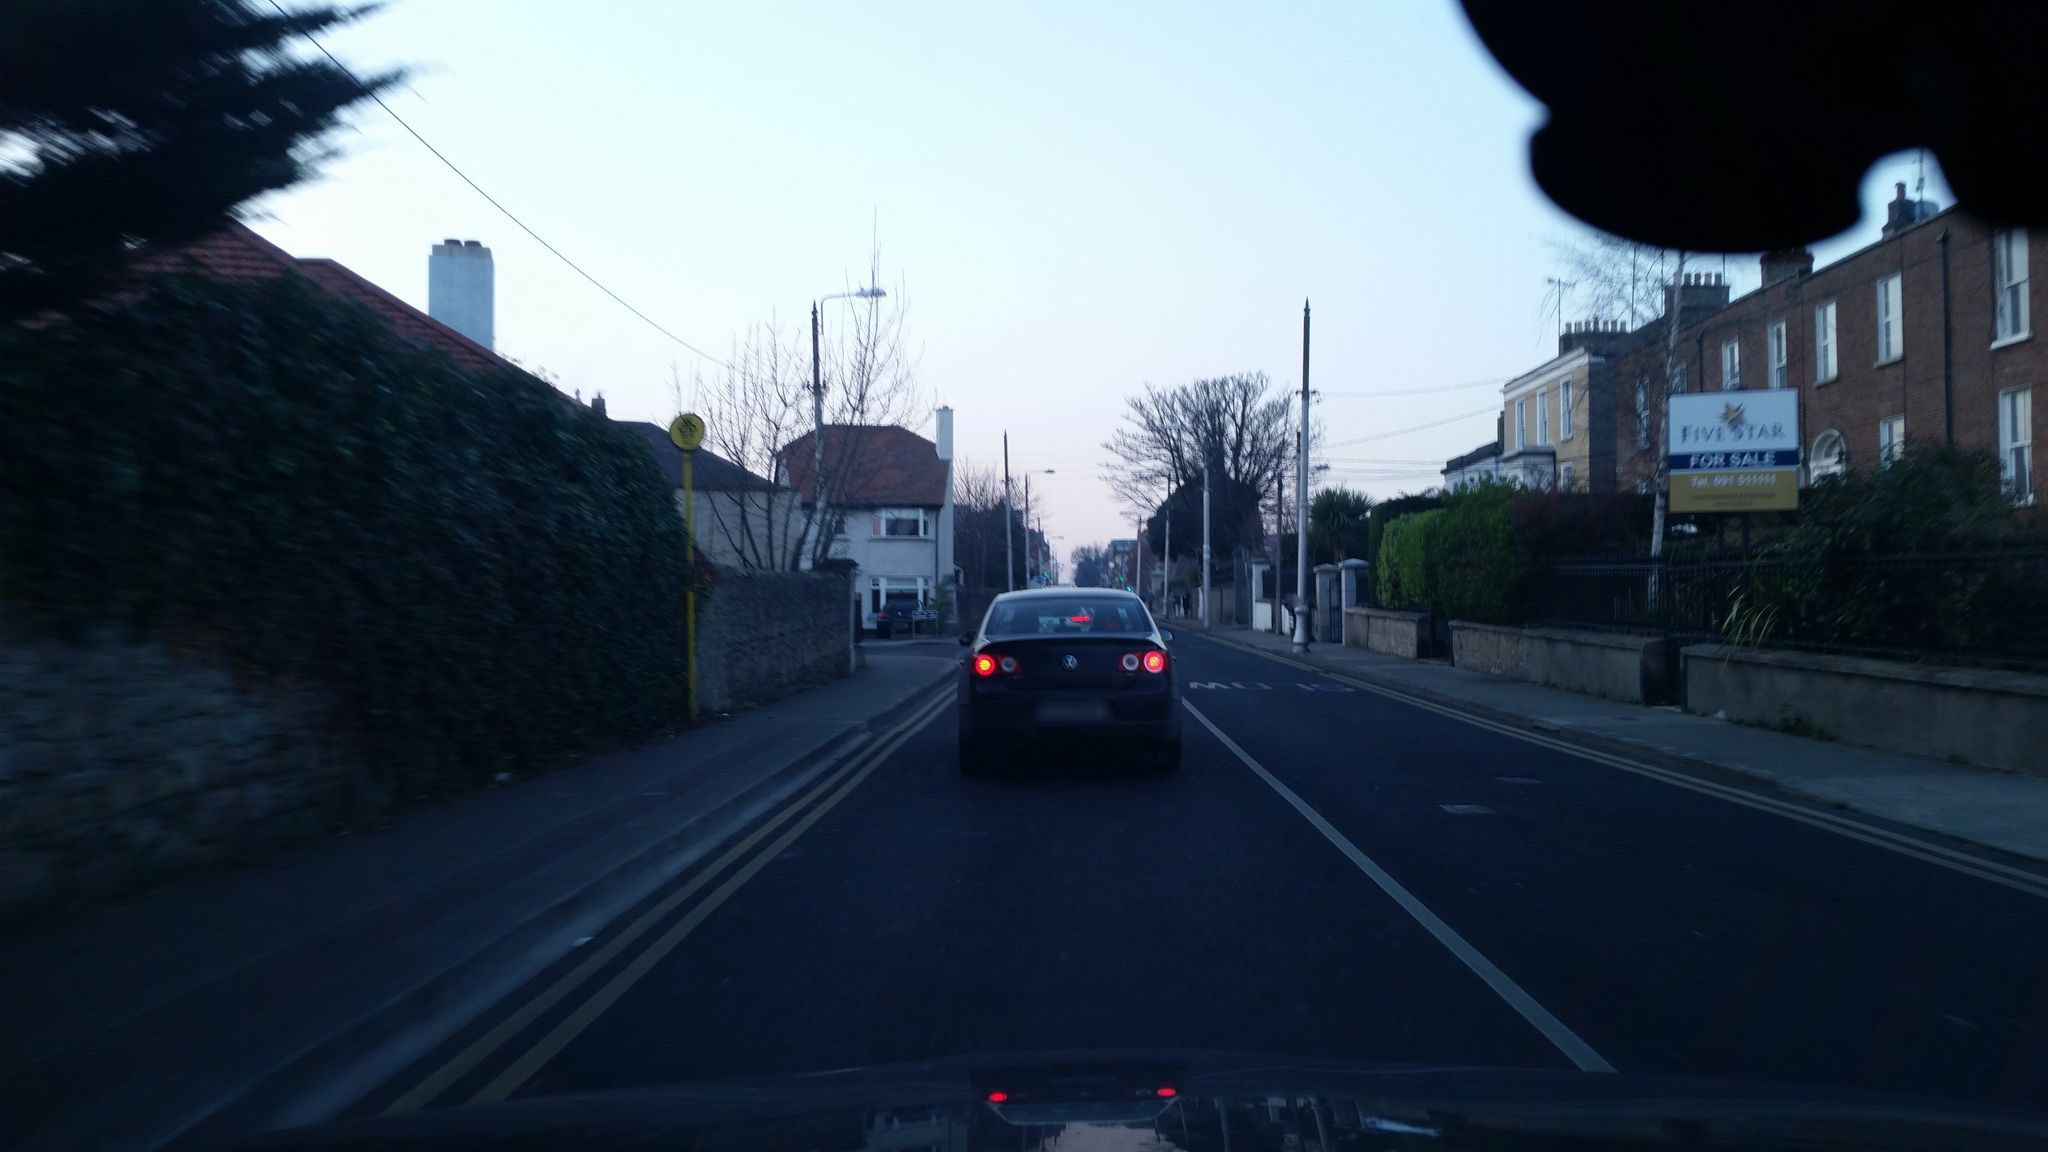property sign: (1641, 366, 1813, 527)
